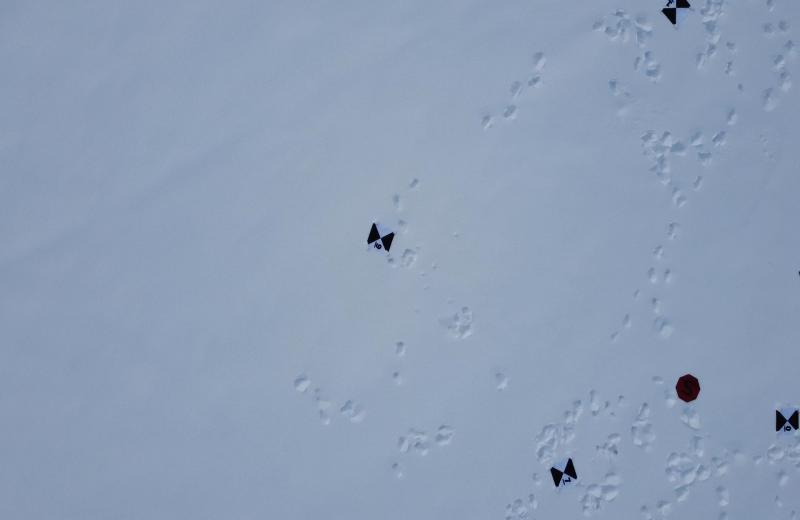Octagon: (674, 370, 704, 405)
